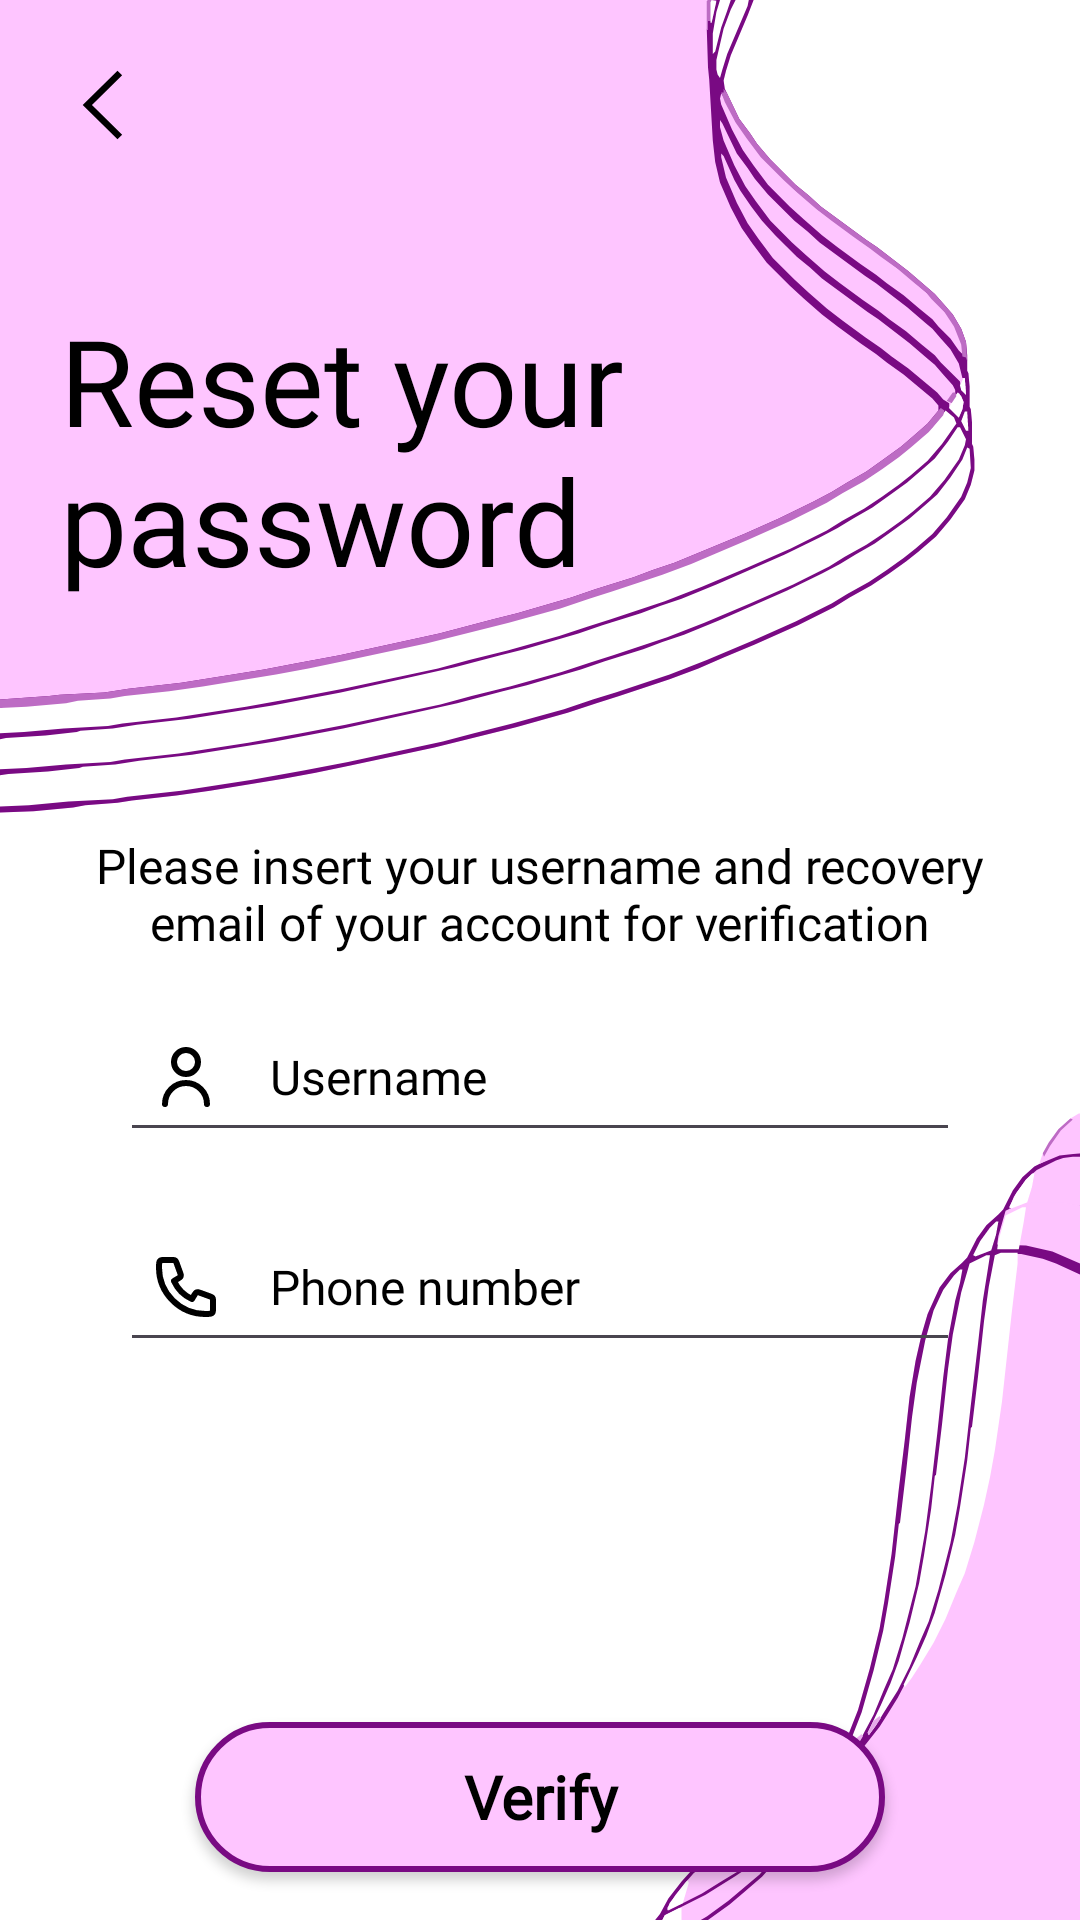

Icon bounding boxes for this 1080x1920 phone screenshot, format Rect(x1, y1, x2, y2):
back: Rect(83, 71, 122, 139)
